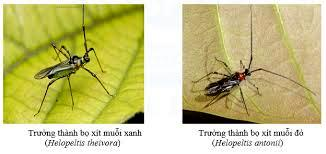Helopeltis-insect: (35, 48, 94, 86), (203, 63, 252, 104)
